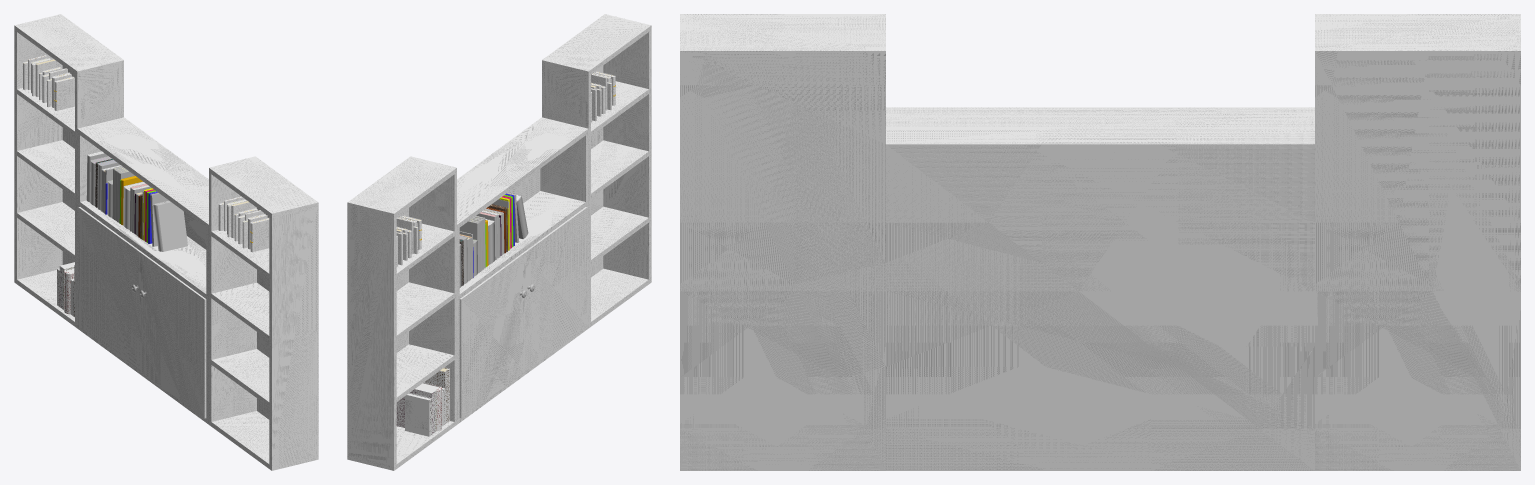
3 views of the same model, side by side, from view 1: azimuth 30°, elevation 25°; view 2: azimuth 150°, elevation 25°; view 3: azimuth 270°, elevation 25° (orthographic). The views are drawn at different scales.
Visible parts, largest first — view 1: mesh143_mesh143-geometry, mesh81_mesh81-geometry, mesh50_mesh50-geometry, mesh75_mesh75-geometry, mesh133_mesh133-geometry, mesh36_mesh36-geometry, mesh19_mesh19-geometry, mesh65_mesh65-geometry; view 2: mesh143_mesh143-geometry, mesh81_mesh81-geometry, mesh130_mesh130-geometry, mesh139_mesh139-geometry, mesh114_mesh114-geometry, mesh50_mesh50-geometry, mesh79_mesh79-geometry, mesh133_mesh133-geometry; view 3: mesh143_mesh143-geometry.
Part boxes in pixels (left/top/right/bottom): mesh143_mesh143-geometry: left=14, top=14, right=318, bottom=470; mesh81_mesh81-geometry: left=23, top=55, right=269, bottom=252; mesh50_mesh50-geometry: left=152, top=200, right=187, bottom=251; mesh75_mesh75-geometry: left=123, top=181, right=145, bottom=229; mesh133_mesh133-geometry: left=64, top=269, right=74, bottom=314; mesh36_mesh36-geometry: left=97, top=159, right=119, bottom=210; mesh19_mesh19-geometry: left=90, top=156, right=111, bottom=205; mesh65_mesh65-geometry: left=150, top=192, right=168, bottom=246; mesh143_mesh143-geometry: left=347, top=14, right=651, bottom=470; mesh81_mesh81-geometry: left=396, top=71, right=615, bottom=266; mesh130_mesh130-geometry: left=405, top=393, right=431, bottom=436; mesh139_mesh139-geometry: left=396, top=385, right=436, bottom=434; mesh114_mesh114-geometry: left=424, top=367, right=449, bottom=423; mesh50_mesh50-geometry: left=516, top=194, right=528, bottom=238; mesh79_mesh79-geometry: left=459, top=220, right=479, bottom=273; mesh133_mesh133-geometry: left=420, top=382, right=441, bottom=431; mesh143_mesh143-geometry: left=680, top=14, right=1520, bottom=470.
Size of the model in its own units: 0.1054 by 0.4799 by 0.871.
